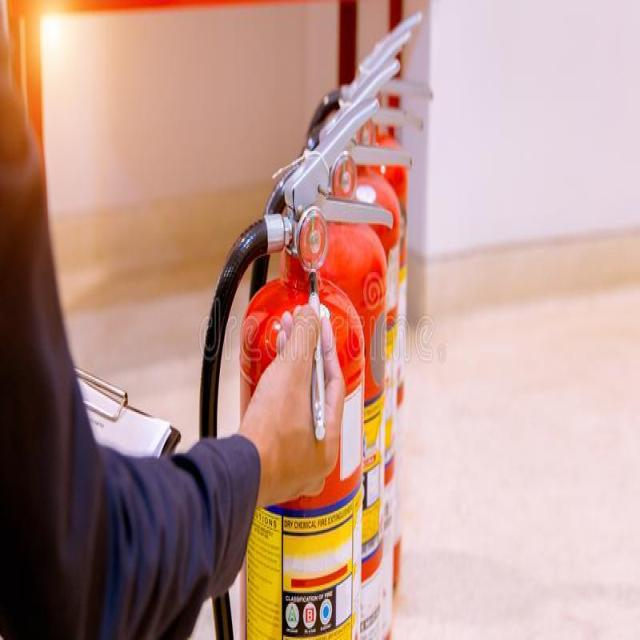fire_extinguisher: (192, 82, 401, 638), (249, 51, 415, 638)
